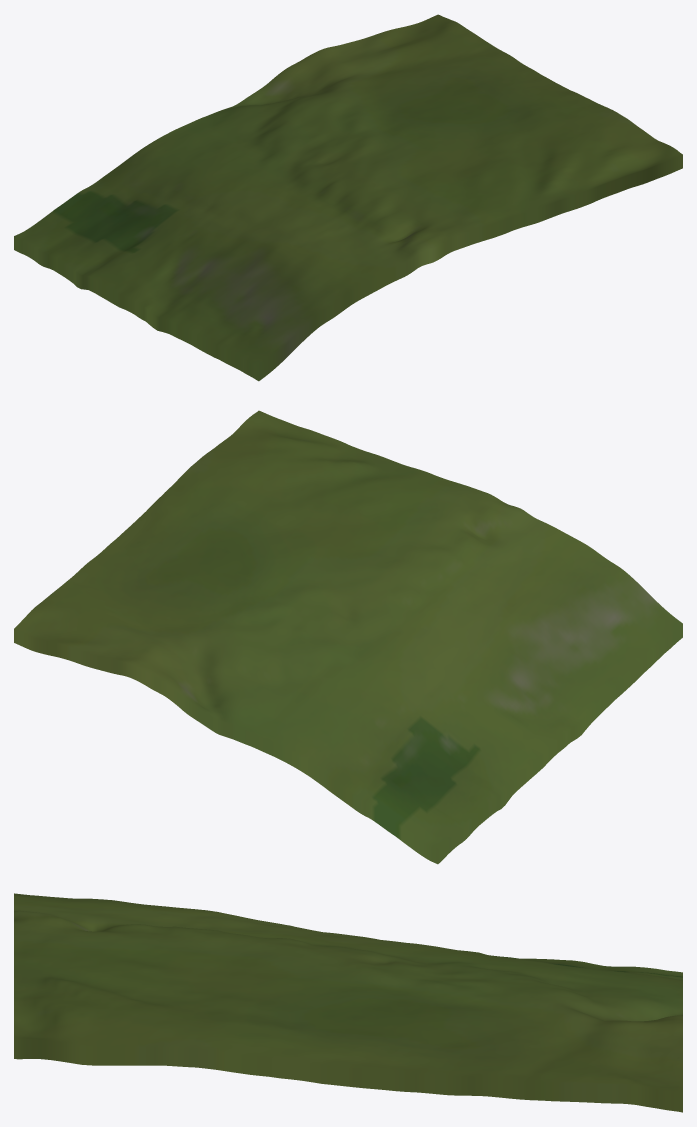
The model's file is terrain_10_-20.glb.
3 views of the same model, one above another, from view 1: azimuth 30°, elevation 25°; view 2: azimuth 150°, elevation 25°; view 3: azimuth 270°, elevation 25° (orthographic). The views are drawn at different scales.
Parts seen in each view (by area): view 1: terrain_10_-20; view 2: terrain_10_-20; view 3: terrain_10_-20.
Boxes of the visible parts, left/top/right/bottom form: terrain_10_-20: left=14, top=14, right=682, bottom=381; terrain_10_-20: left=14, top=410, right=682, bottom=864; terrain_10_-20: left=14, top=893, right=682, bottom=1112.
Bounding box in the file's own units: 256 × 98.86 × 256.
